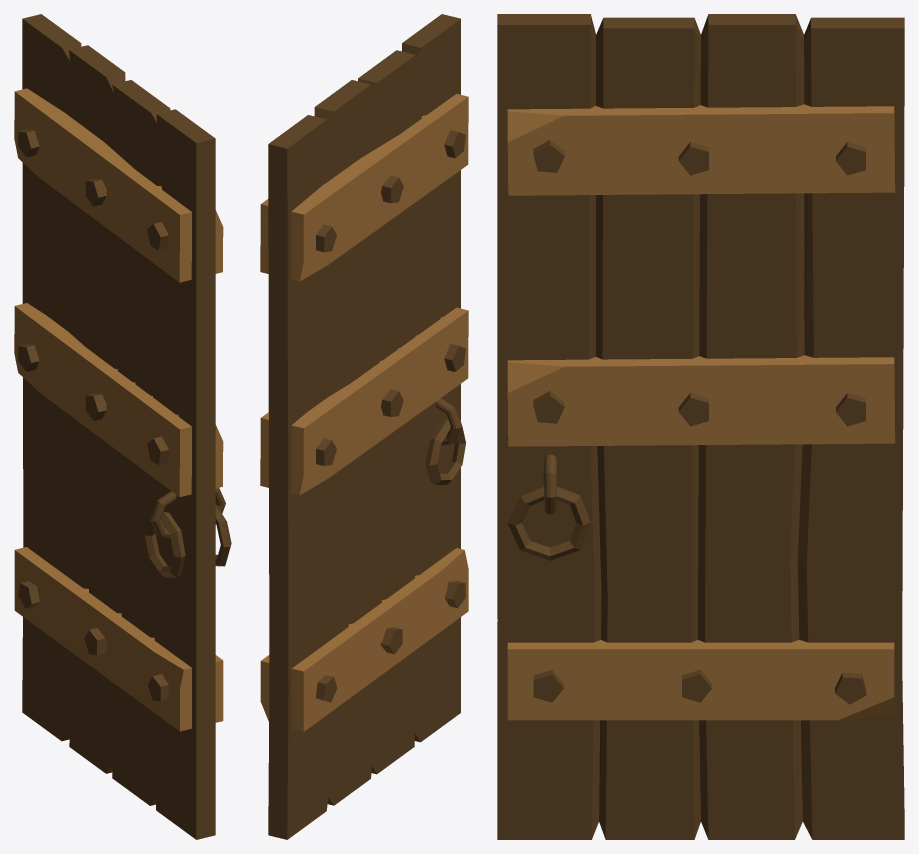
Rendered from door_interior.fbx.
3 renders of one model, left to right at view 1: azimuth 30°, elevation 25°; view 2: azimuth 150°, elevation 25°; view 3: azimuth 270°, elevation 25°, orthographic. The views are drawn at different scales.
Parts seen in each view (by area): view 1: door; view 2: door; view 3: door.
Boxes of the visible parts, <box> form: door: <box>14,14,231,839</box>; door: <box>260,14,468,839</box>; door: <box>497,14,904,839</box>.
Size of the model in its own units: 24.37 by 218 by 98.63.
